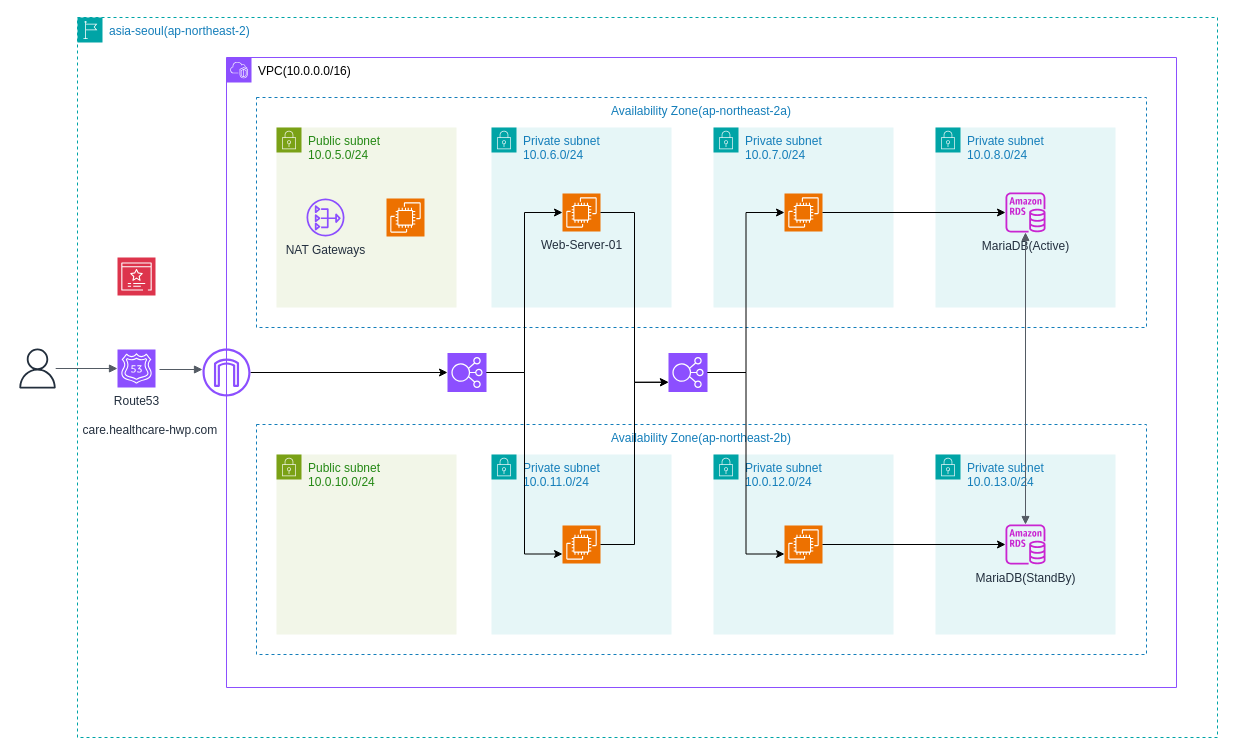
Image size: 1235x755. Some labels were removed from this diagram. Each missing label, with the centre of its shape:
ACM (SSL for https): pixel 136 276
Bastion Host: pixel 405 217
EX-ELB: pixel 466 372
IN-ELB: pixel 688 372
Internet Gateway: pixel 226 372
User: pixel 37 368
Was-Server-01: pixel 803 212
Was-Server-02: pixel 803 544
Web-Server-02: pixel 581 544
